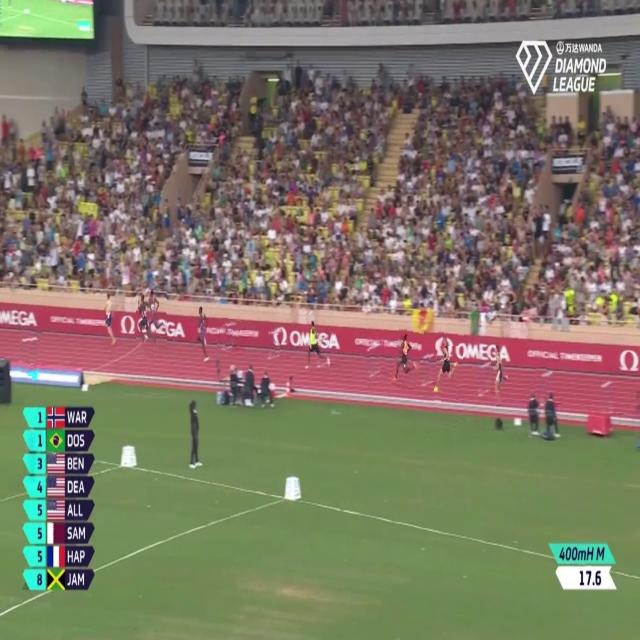athlete: (435, 332, 463, 403), (393, 326, 422, 391), (304, 313, 334, 375), (195, 296, 214, 368), (147, 290, 167, 350), (492, 342, 511, 404), (136, 294, 152, 358), (102, 286, 119, 346)
hurdle: (17, 327, 41, 376), (363, 340, 386, 387), (535, 368, 557, 412), (217, 319, 240, 357), (420, 349, 437, 392), (597, 373, 613, 409), (268, 324, 281, 367), (478, 357, 490, 399)
